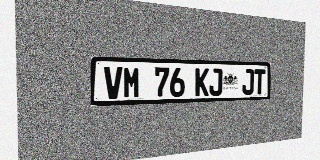6: (170, 68, 185, 97)
7: (154, 67, 169, 98)
J: (209, 68, 222, 96), (242, 69, 254, 95)
K: (195, 68, 209, 96)
M: (123, 67, 140, 99)
T: (254, 69, 265, 94)
V: (104, 66, 122, 99)
